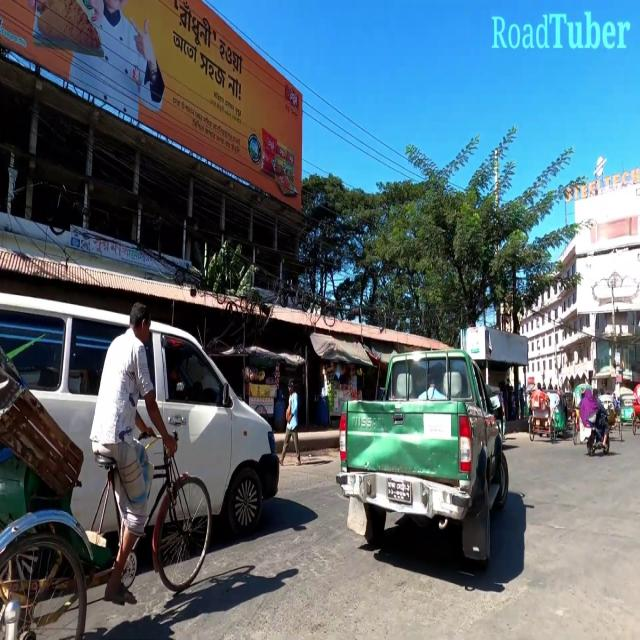white: (0, 287, 280, 542)
